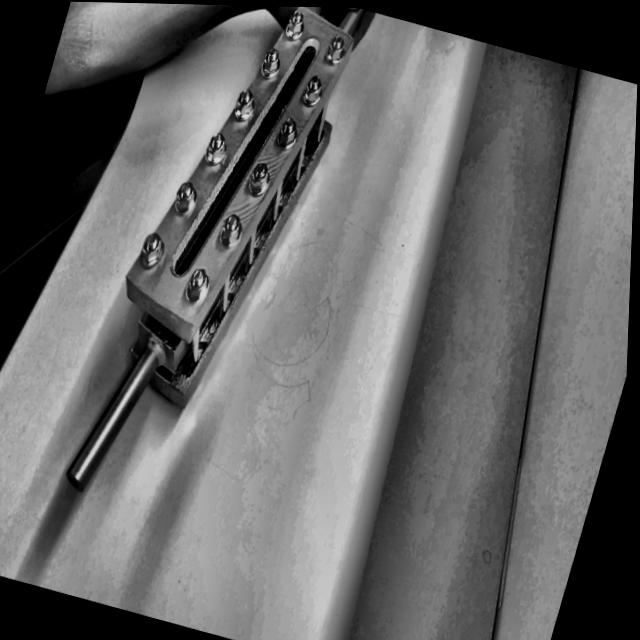ShuiWeiQi_12: (70, 1, 375, 537)
